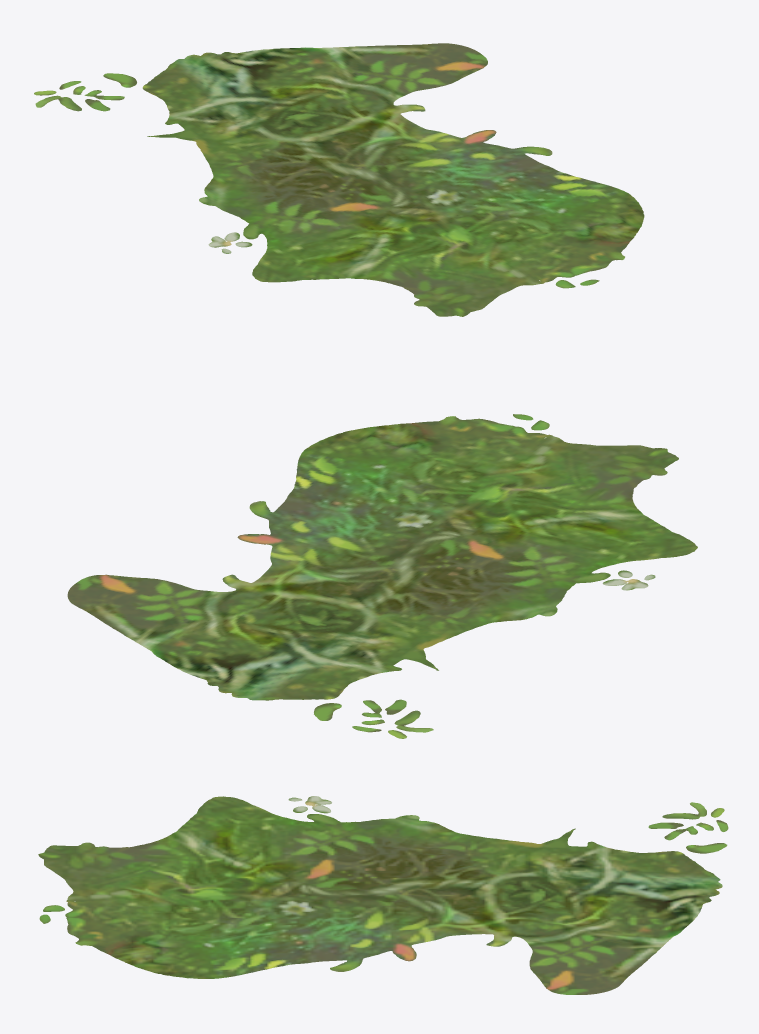
File: fb_lyhg_tiepian_01.FBX
3 views of the same model, one above another, from view 1: azimuth 30°, elevation 25°; view 2: azimuth 150°, elevation 25°; view 3: azimuth 270°, elevation 25° (orthographic). The views are drawn at different scales.
Parts seen in each view (by area): view 1: fb_tys_tiepian_01; view 2: fb_tys_tiepian_01; view 3: fb_tys_tiepian_01.
Part boxes in pixels (bbox=[...]): fb_tys_tiepian_01: bbox=[34, 43, 644, 316]; fb_tys_tiepian_01: bbox=[67, 414, 697, 738]; fb_tys_tiepian_01: bbox=[38, 796, 728, 994].
Bounding box in the file's own units: 312 × 1.13e-13 × 400.
